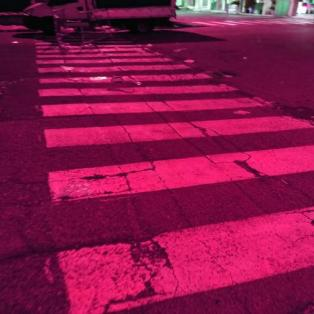Paso de Cebra: (40, 143, 314, 313), (26, 82, 278, 121)
